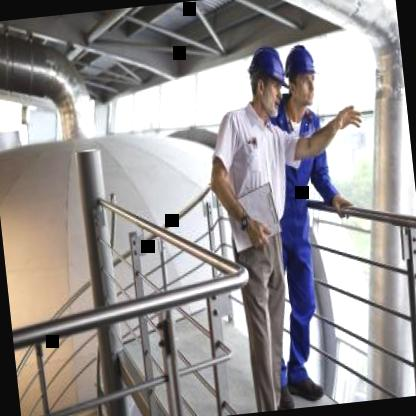helmet: (238, 42, 297, 124), (275, 36, 327, 126)
